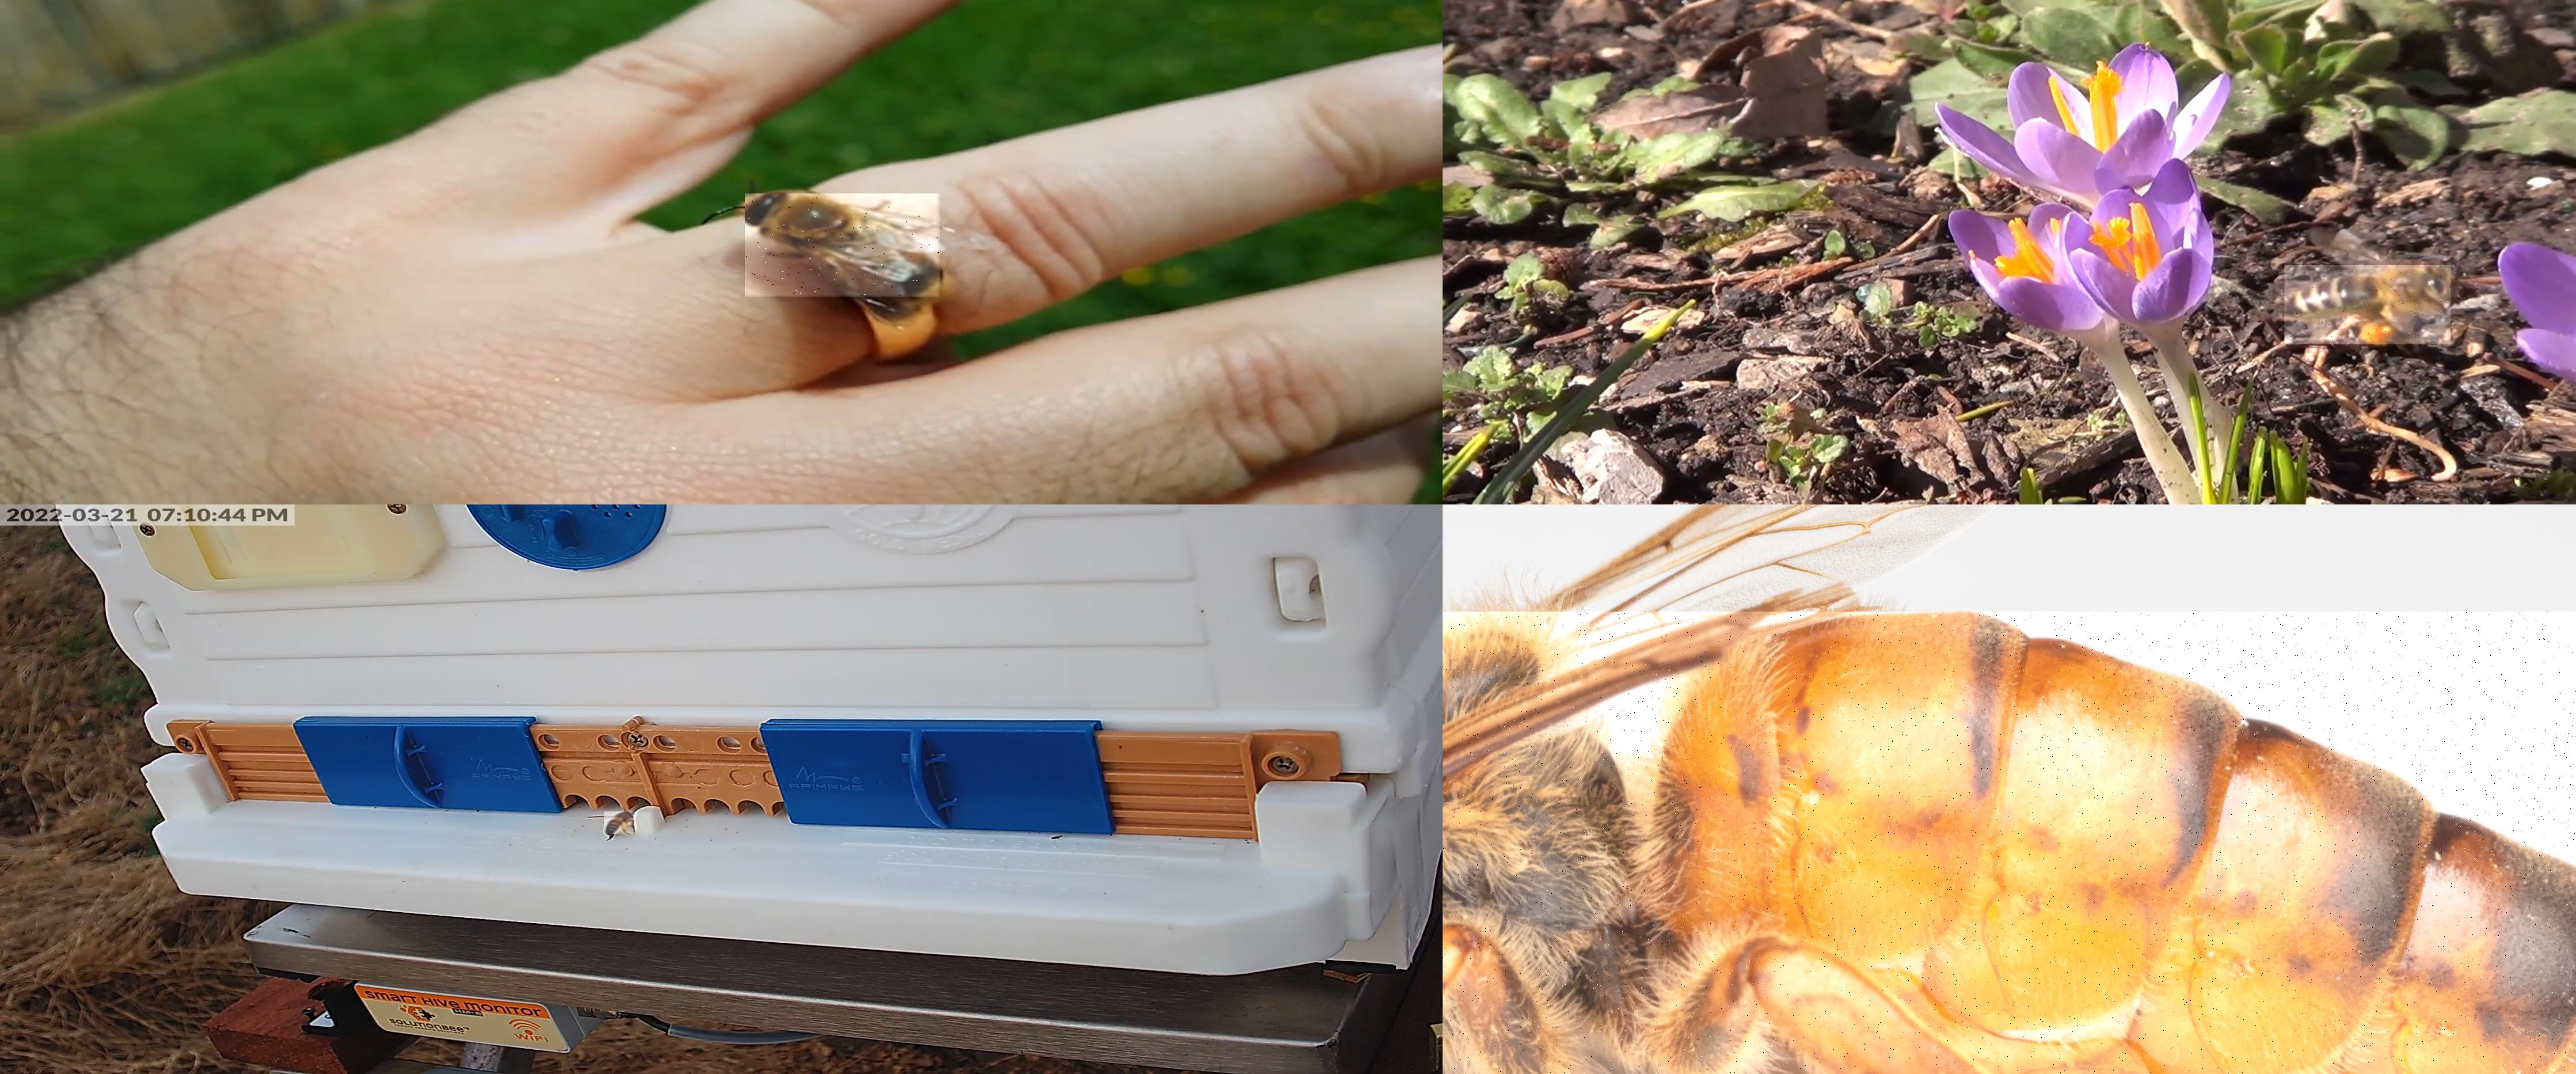drone: (746, 194, 943, 299)
pollenbee: (2285, 265, 2451, 345), (605, 811, 634, 834)
queen: (1442, 612, 2576, 1074)
